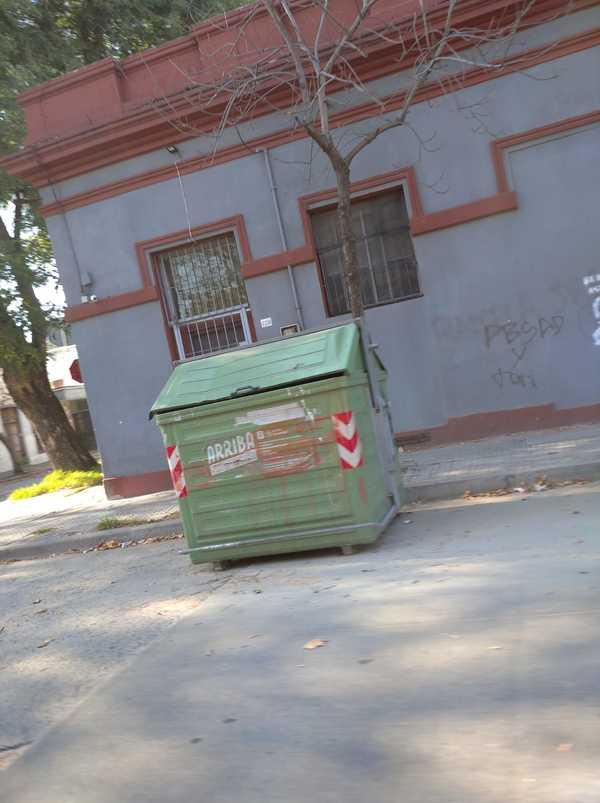Trash: (150, 321, 399, 567)
